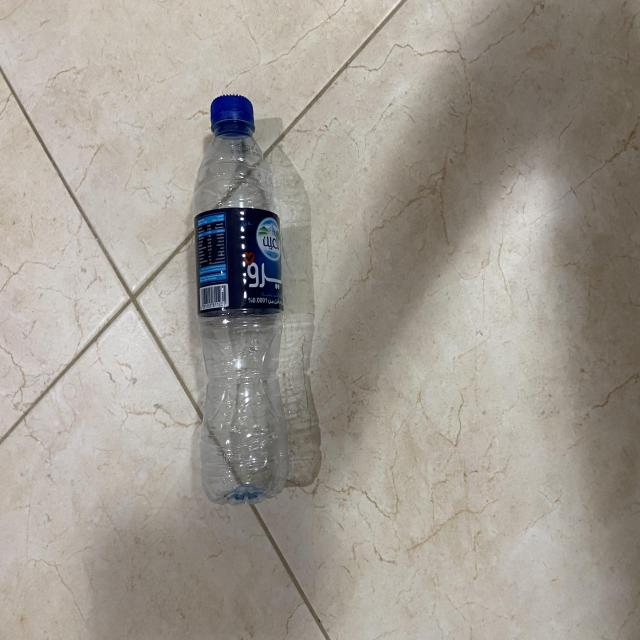plastic: (192, 90, 283, 510)
